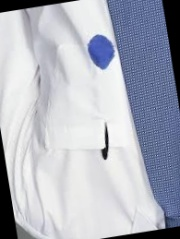ink: (85, 33, 116, 71)
